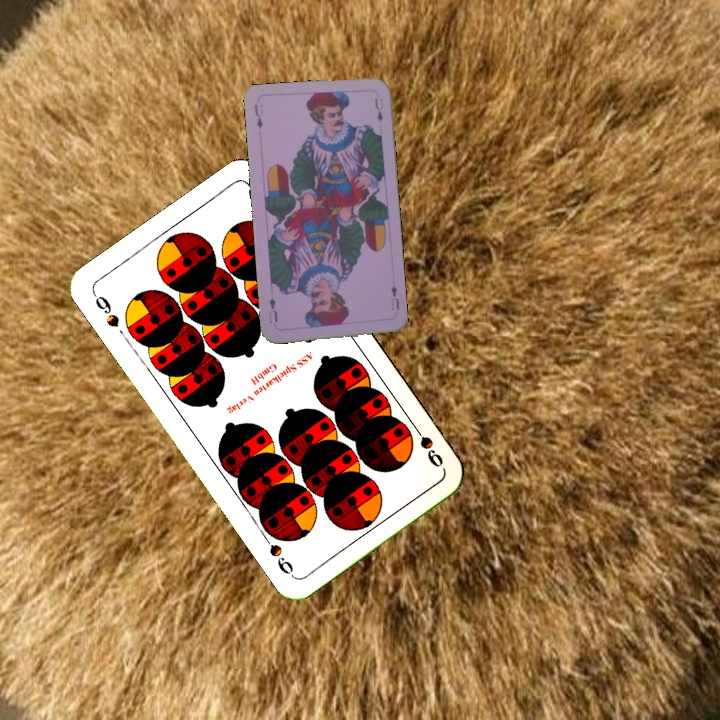EU: (250, 100, 266, 131), (387, 281, 402, 313)
S9: (407, 419, 446, 470), (88, 288, 122, 330)
